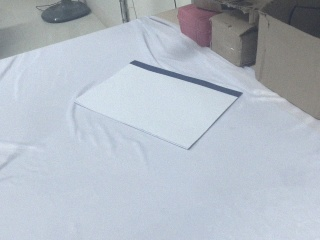box: (253, 1, 320, 125), (210, 9, 259, 67)
